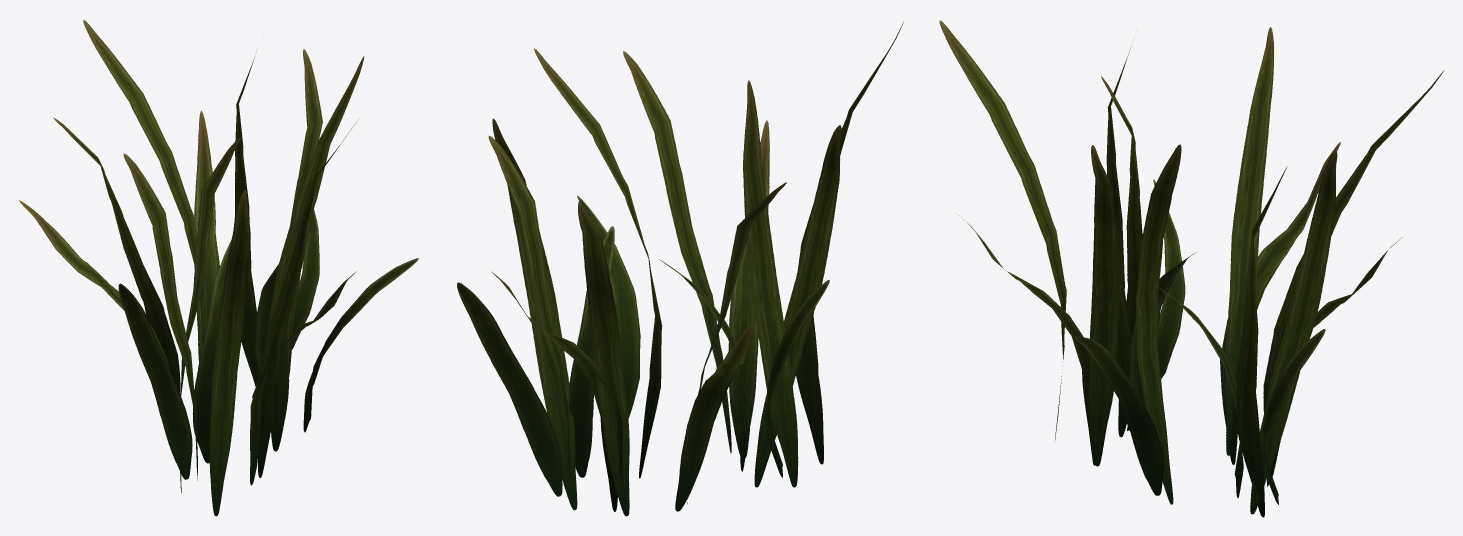
The model's file is Grass_Large_3.fbx.
The picture shows the model from 3 angles, left to right: view 1: azimuth 30°, elevation 25°; view 2: azimuth 150°, elevation 25°; view 3: azimuth 270°, elevation 25°; orthographic projection. The views are drawn at different scales.
Visible parts, largest first — view 1: Grass_Large_3; view 2: Grass_Large_3; view 3: Grass_Large_3.
Part boxes in pixels (x1,y1,x2,y2): Grass_Large_3: (19,20,418,516); Grass_Large_3: (457,22,903,516); Grass_Large_3: (939,20,1443,517).
Size of the model in its own units: 1.53 by 1.95 by 2.13.
